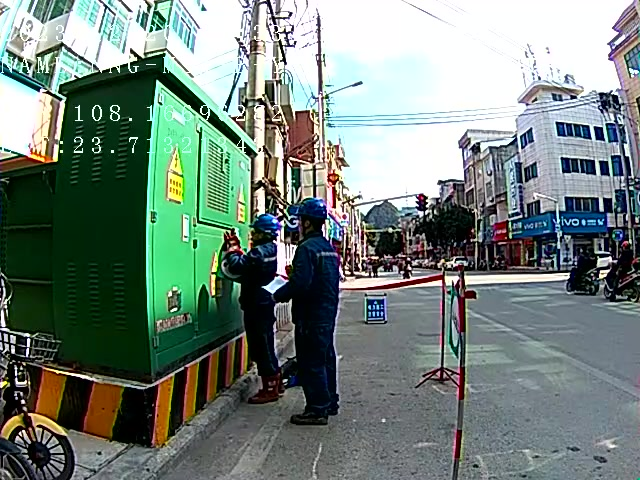downsuit: (284, 324, 344, 410), (241, 312, 285, 376)
halt: (245, 210, 283, 247), (293, 198, 329, 237)
inear: (299, 214, 312, 240)
longglove: (222, 228, 244, 257)
person: (286, 197, 344, 421), (221, 207, 282, 402)
shoe: (249, 374, 284, 404)
upsuit: (280, 236, 341, 324), (225, 245, 280, 314)
